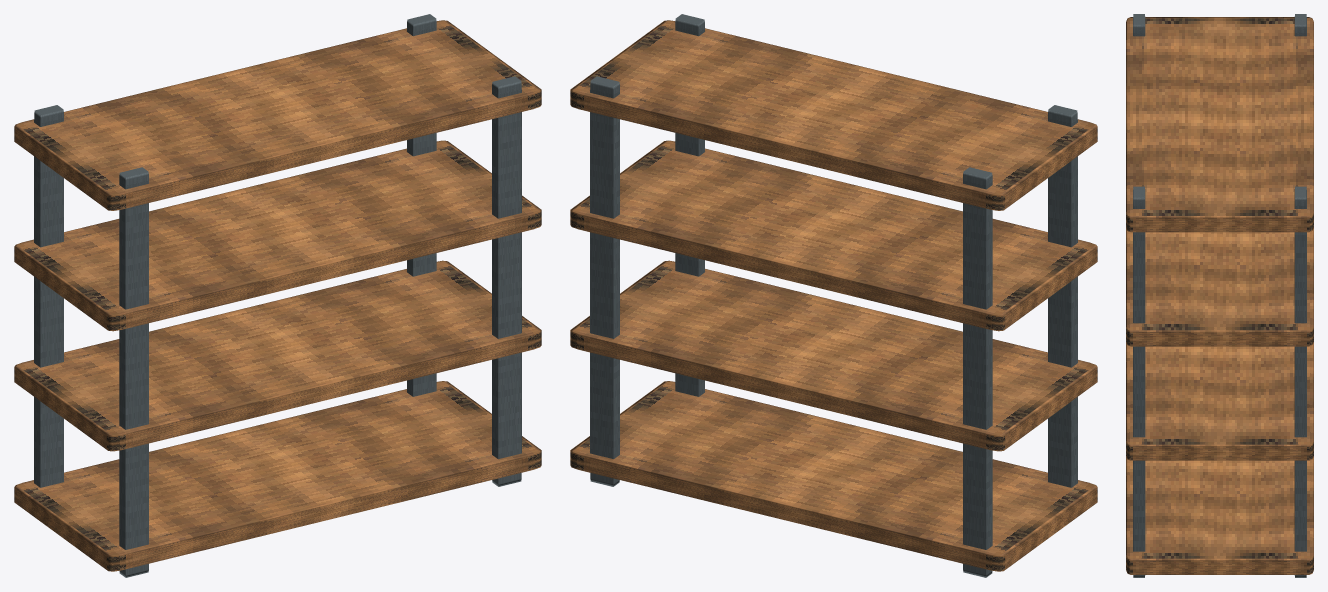
Rendered from mug-rack.glb.
3 views of the same model, side by side, from view 1: azimuth 30°, elevation 25°; view 2: azimuth 150°, elevation 25°; view 3: azimuth 270°, elevation 25° (orthographic). The views are drawn at different scales.
Parts seen in each view (by area): view 1: shelf (×4), leg (×4); view 2: shelf (×4), leg (×4); view 3: shelf (×4), leg (×4).
Part boxes in pixels (x1,y1,x2,y2): shelf (×4): (14, 20, 541, 571); leg (×4): (34, 14, 521, 577); shelf (×4): (570, 20, 1097, 571); leg (×4): (590, 14, 1077, 577); shelf (×4): (1126, 17, 1313, 574); leg (×4): (1133, 14, 1306, 577).
Bounding box in the file's own units: 0.43 × 0.38 × 0.17.
2 materials, 2 textured.
